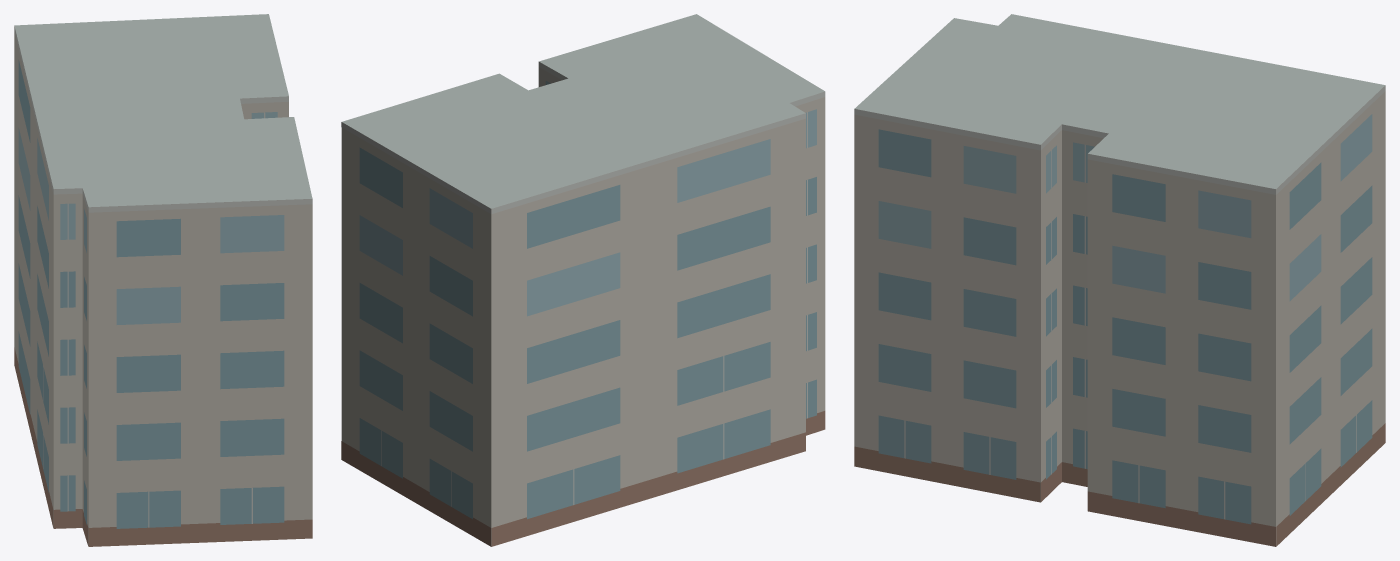
File: survey-upis-32928396.glb
3 renders of one model, left to right at view 1: azimuth 30°, elevation 25°; view 2: azimuth 150°, elevation 25°; view 3: azimuth 270°, elevation 25°, orthographic. The views are drawn at different scales.
Parts seen in each view (by area): view 1: survey-upis-32928396.tmp; view 2: survey-upis-32928396.tmp; view 3: survey-upis-32928396.tmp.
Part boxes in pixels (bbox=[...]): survey-upis-32928396.tmp: bbox=[14, 14, 312, 546]; survey-upis-32928396.tmp: bbox=[341, 14, 825, 546]; survey-upis-32928396.tmp: bbox=[854, 14, 1385, 546].
Size of the model in its own units: 15.98 by 15.2 by 20.47.
